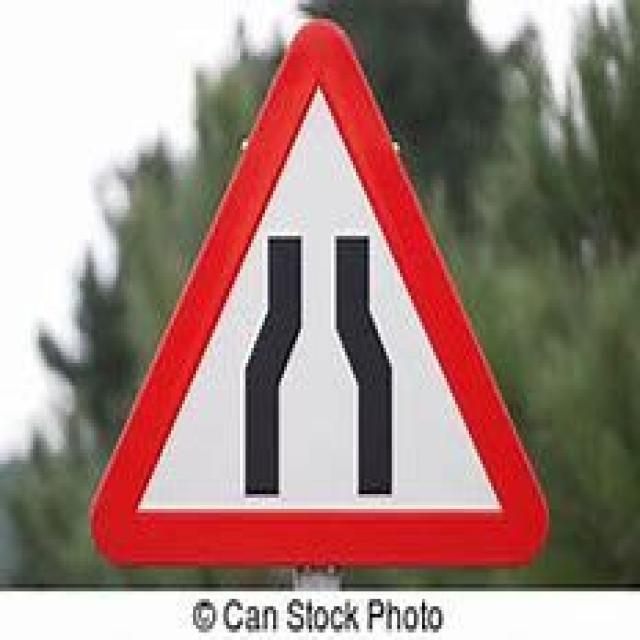narrow road ahead: (95, 14, 549, 570)
